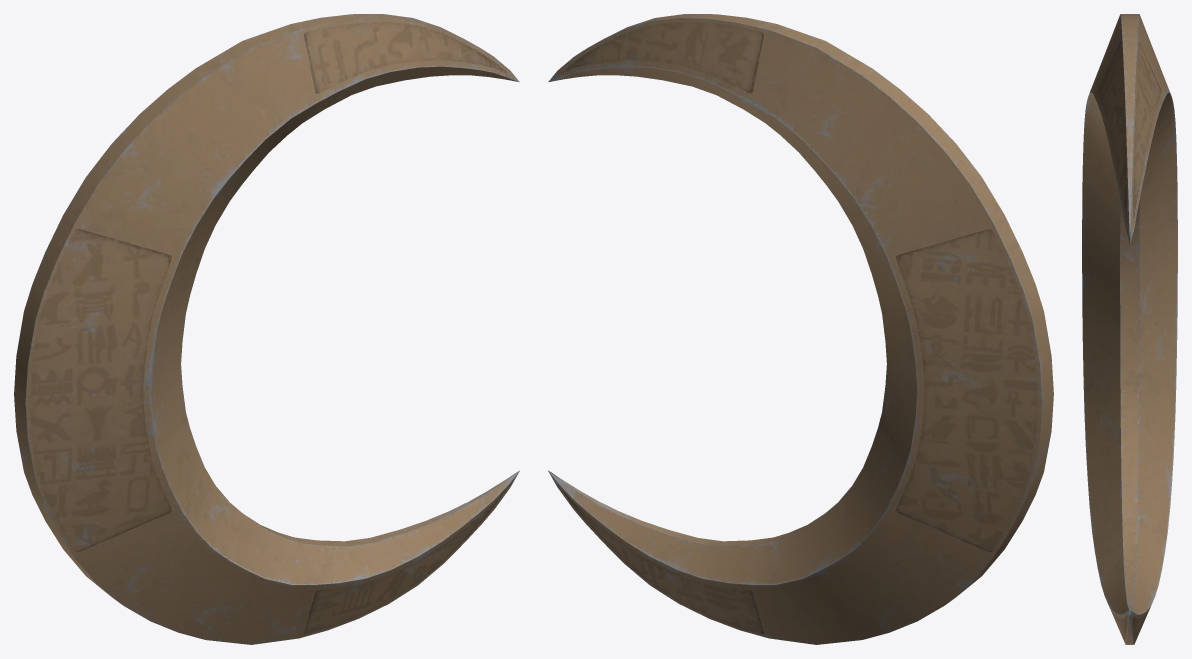
File: boomerang.glb
3 renders of one model, left to right at view 1: azimuth 30°, elevation 25°; view 2: azimuth 150°, elevation 25°; view 3: azimuth 270°, elevation 25°, orthographic. The views are drawn at different scales.
Parts seen in each view (by area): view 1: Line002__0; view 2: Line002__0; view 3: Line002__0.
Boxes of the visible parts, x1,y1,x2,y2 form: Line002__0: [14, 14, 519, 644]; Line002__0: [548, 14, 1053, 644]; Line002__0: [1082, 14, 1177, 644].
Size of the model in its own units: 0.8672 by 1.01 by 0.1527.
Materials: 1 (1 with a texture image).
